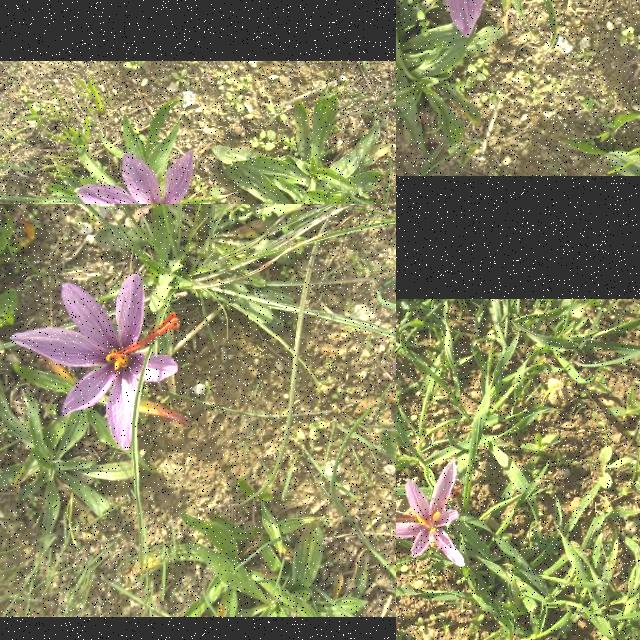flower: (11, 274, 180, 451), (396, 460, 466, 566), (76, 150, 194, 204), (396, 0, 520, 38)
